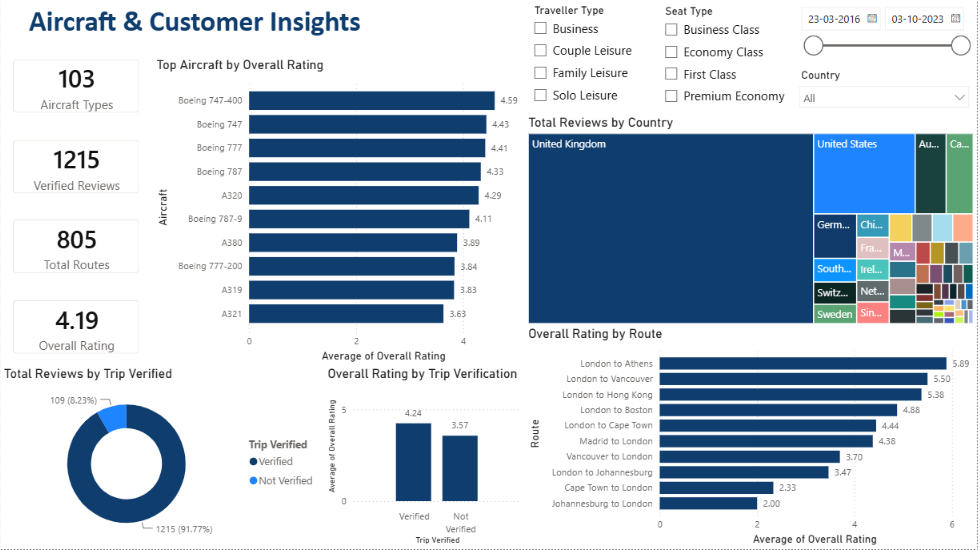

The dashboard page shown, as its layout file describes it:
{"tool":"powerbi","page":{"name":"Aircraft & Customer Insights","canvas":[1280,720],"ordinal":2},"visuals":[{"type":"textbox","box":[0,0,510.1,57.9],"z":0},{"type":"cardVisual","fields":{"Data":["Measure.Aircraft Types"]},"box":[0,61.7,199.4,104.9],"z":1000},{"type":"cardVisual","fields":{"Data":["Measure.Total Routes"]},"box":[0,271.6,199.4,104.9],"z":2000},{"type":"cardVisual","fields":{"Data":["Measure.Verified Reviews"]},"box":[0,166.6,199.4,104.9],"z":3000},{"type":"cardVisual","fields":{"Data":["Measure.Overall Rating"]},"box":[0,376.5,199.4,104.9],"z":4000},{"type":"clusteredBarChart","title":"Top Aircraft by Overall Rating","fields":{"Y":["Avg(ba_reviews.Overall Rating)"],"Category":["ba_reviews.Aircraft"]},"box":[199.4,76.1,488,404.1],"z":5000},{"type":"clusteredBarChart","title":"Overall Rating by Route","fields":{"Category":["ba_reviews.Route"],"Y":["Avg(ba_reviews.Overall Rating)"]},"box":[687.4,429,593,291.2],"z":7000},{"type":"donutChart","fields":{"Category":["ba_reviews.Trip Verified"],"Y":["Measure.Total Reviews"]},"box":[0,481.5,423.7,237.4],"z":8000},{"type":"clusteredColumnChart","title":"Overall Rating by Trip Verification","fields":{"Category":["ba_reviews.Trip Verified"],"Y":["Avg(ba_reviews.Overall Rating)"]},"box":[423.7,480.1,263.7,238.8],"z":9000},{"type":"treemap","fields":{"Group":["ba_reviews.Country"],"Values":["Measure.Total Reviews"]},"box":[687.4,150.9,593,278.1],"z":10000},{"type":"slicer","fields":{"Values":["ba_reviews.Traveller Type"]},"box":[687.4,0,170.5,150.9],"z":11000},{"type":"slicer","fields":{"Values":["ba_reviews.Seat Type"]},"box":[858,1.3,179.7,150.9],"z":12000},{"type":"slicer","fields":{"Values":["ba_reviews.Date"]},"box":[1037.7,0,242.7,85.3],"z":13000},{"type":"slicer","fields":{"Values":["ba_reviews.Country"]},"box":[1037.7,85.3,242.7,72.2],"z":14000}]}

Visuals, with their boxes in screenshot pixels (x1, y1, x2, y2), scaled from the page's 1280x720 canvas onto the 978x550 screenshot:
textbox: detection(0, 0, 390, 44)
cardVisual - Measure.Aircraft Types: detection(0, 47, 152, 127)
cardVisual - Measure.Total Routes: detection(0, 207, 152, 288)
cardVisual - Measure.Verified Reviews: detection(0, 127, 152, 207)
cardVisual - Measure.Overall Rating: detection(0, 288, 152, 368)
"Top Aircraft by Overall Rating" clusteredBarChart: detection(152, 58, 525, 367)
"Overall Rating by Route" clusteredBarChart: detection(525, 328, 977, 549)
donutChart - ba_reviews.Trip Verified x Measure.Total Reviews: detection(0, 368, 324, 549)
"Overall Rating by Trip Verification" clusteredColumnChart: detection(324, 367, 525, 549)
treemap - ba_reviews.Country x Measure.Total Reviews: detection(525, 115, 977, 328)
slicer - ba_reviews.Traveller Type: detection(525, 0, 655, 115)
slicer - ba_reviews.Seat Type: detection(656, 1, 793, 116)
slicer - ba_reviews.Date: detection(793, 0, 977, 65)
slicer - ba_reviews.Country: detection(793, 65, 977, 120)
